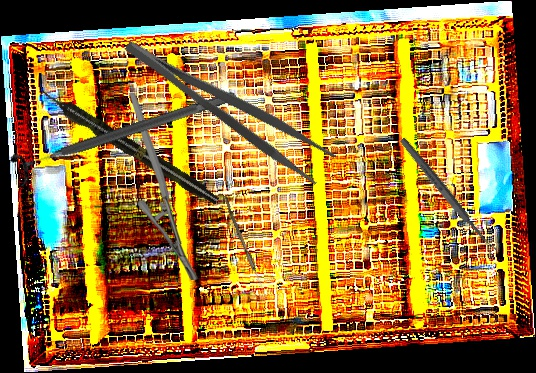Dressing Forceps: (121, 19, 337, 189)
Fixation Ring: (7, 78, 242, 190)
Handpiece: (36, 83, 222, 209)
Needle Holder: (125, 92, 203, 281)
Surgical Spoon: (398, 136, 498, 256), (221, 195, 268, 296)
